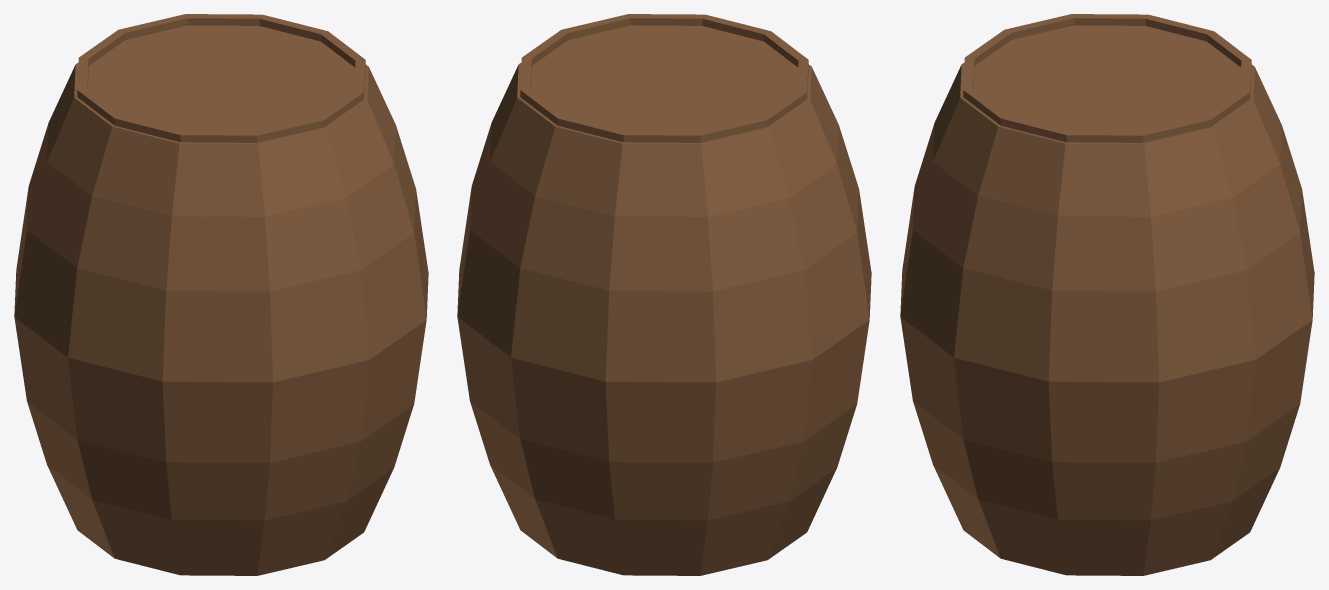
3 views of the same model, side by side, from view 1: azimuth 30°, elevation 25°; view 2: azimuth 150°, elevation 25°; view 3: azimuth 270°, elevation 25° (orthographic).
Visible parts, largest first — view 1: barrel; view 2: barrel; view 3: barrel.
Boxes of the visible parts, x1=… form: barrel: x1=14, y1=14, x2=428, y2=575; barrel: x1=457, y1=14, x2=871, y2=575; barrel: x1=900, y1=14, x2=1314, y2=575.
Bounding box in the file's own units: 0.7675 × 0.8999 × 0.7675.
